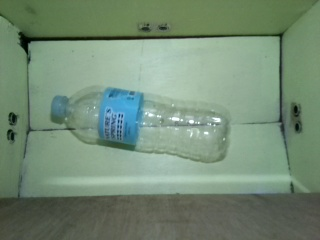bottle: (50, 84, 233, 163)
